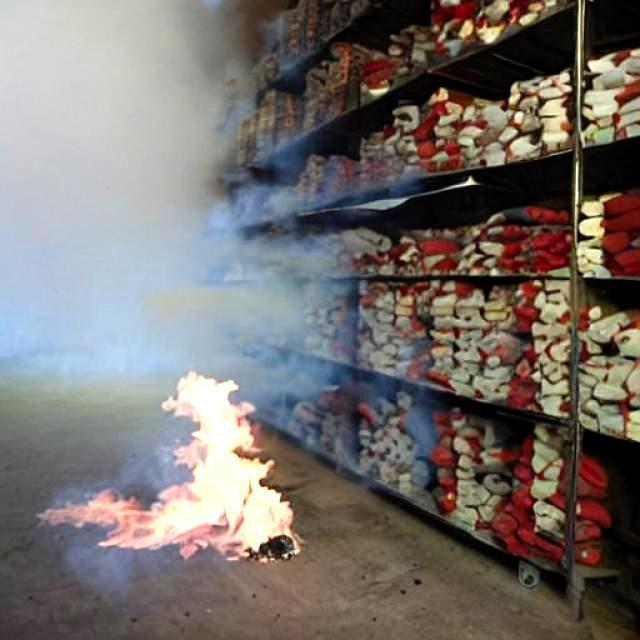Fire: (42, 370, 307, 562)
Smoke: (0, 0, 360, 381)
